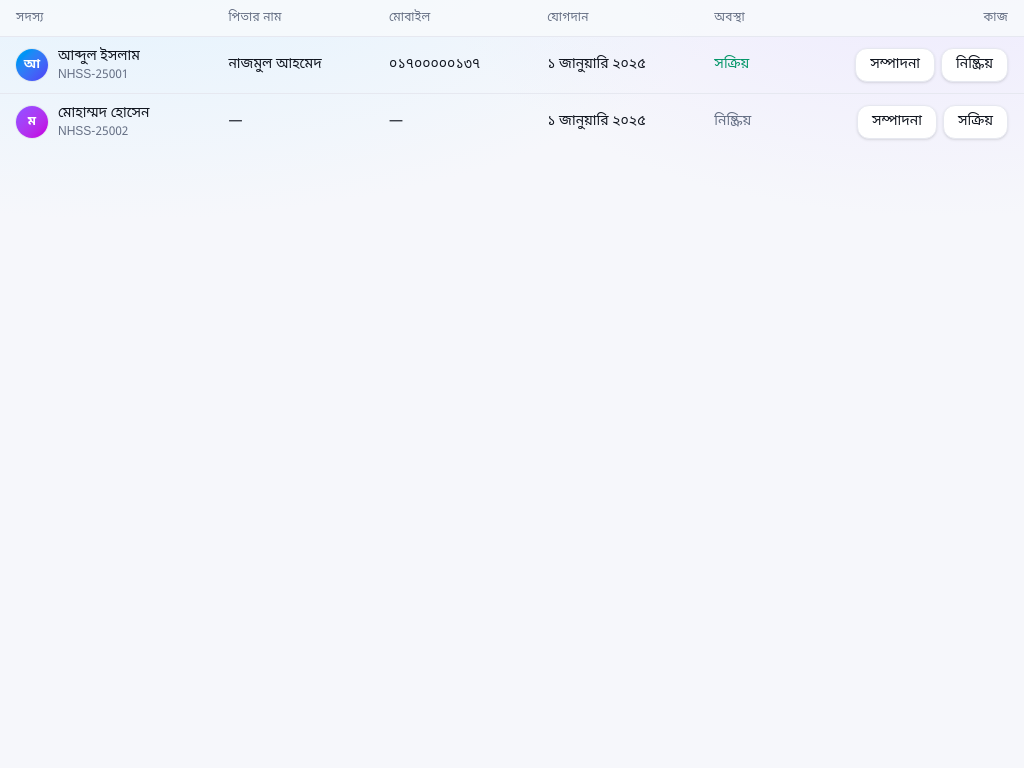
Test: admin members table › confirms in a dialog before deactivating, and says what will happen
The width and height of the screenshot is (1024, 768).
Click the button named "আব্দুল ইসলাম নিষ্ক্রিয় করুন": (975, 65) [941, 48, 1008, 82]
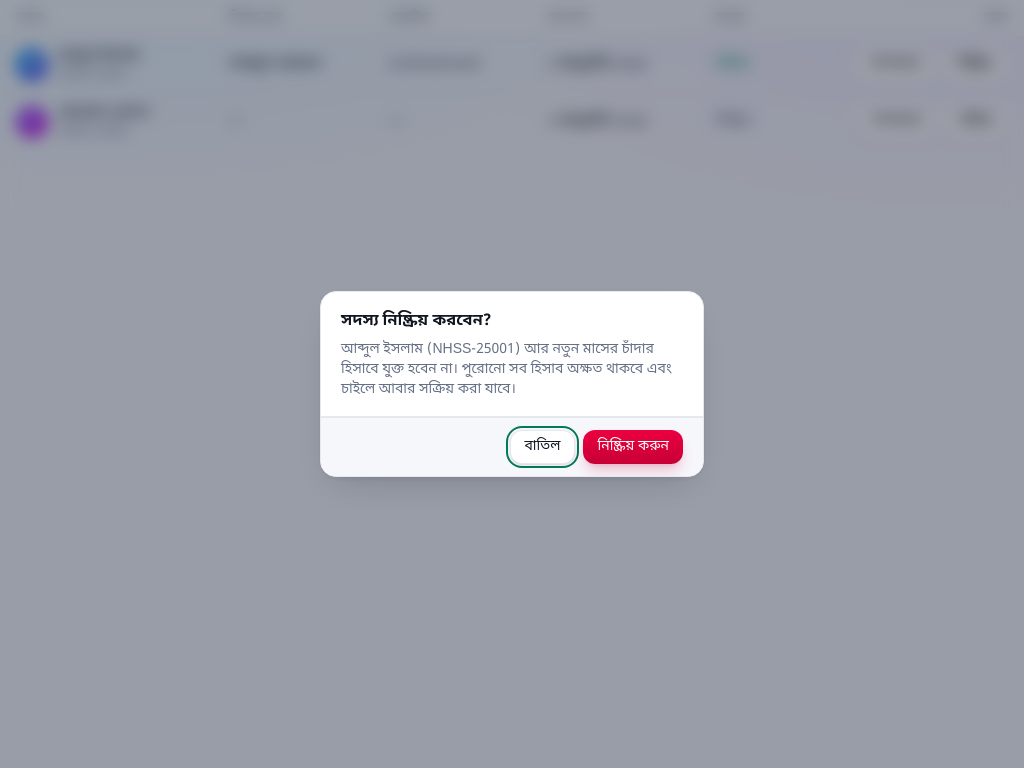
Now the dialog shows "পুরোনো সব হিসাব অক্ষত থাকবে", box [341, 340, 672, 399]
Click the button "নিষ্ক্রিয় করুন": (633, 447) [584, 430, 683, 464]
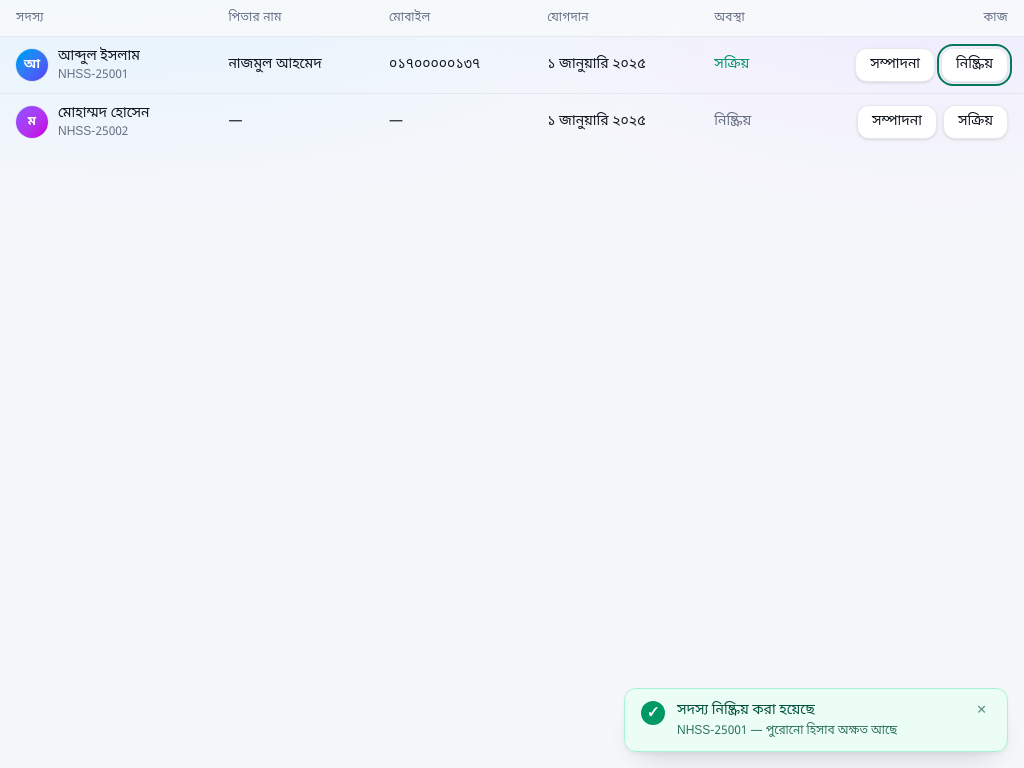
Now the text "সদস্য নিষ্ক্রিয় করা হয়েছে" is shown, box [677, 701, 815, 720]
